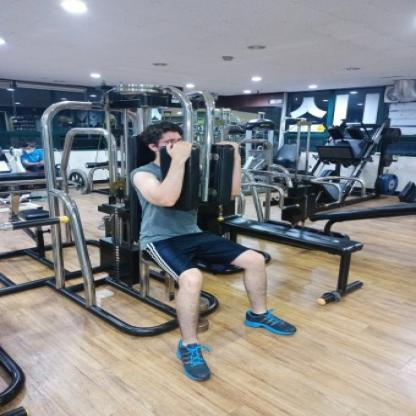chest fly machine: (41, 64, 369, 388)
